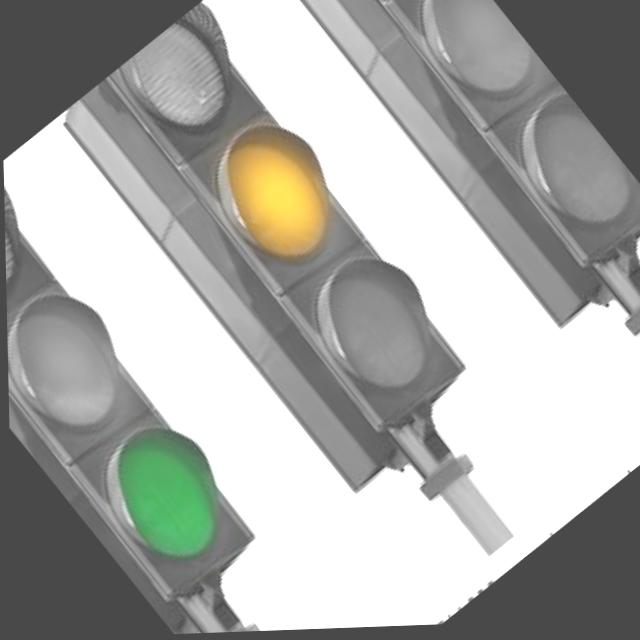Hijau: (89, 417, 241, 579)
Kuning: (197, 117, 347, 276)
